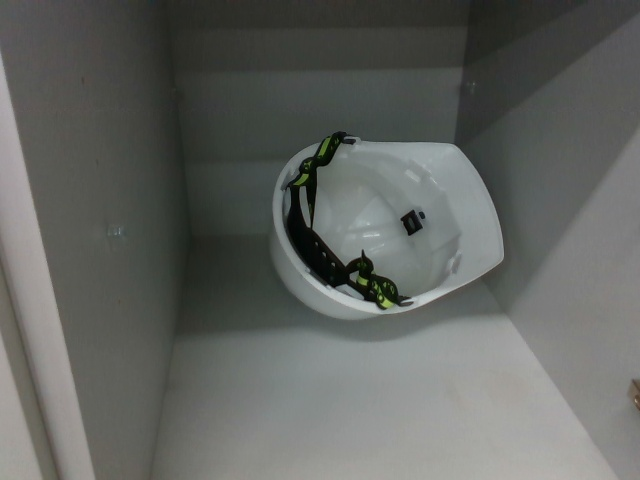helmet: (259, 133, 515, 325)
